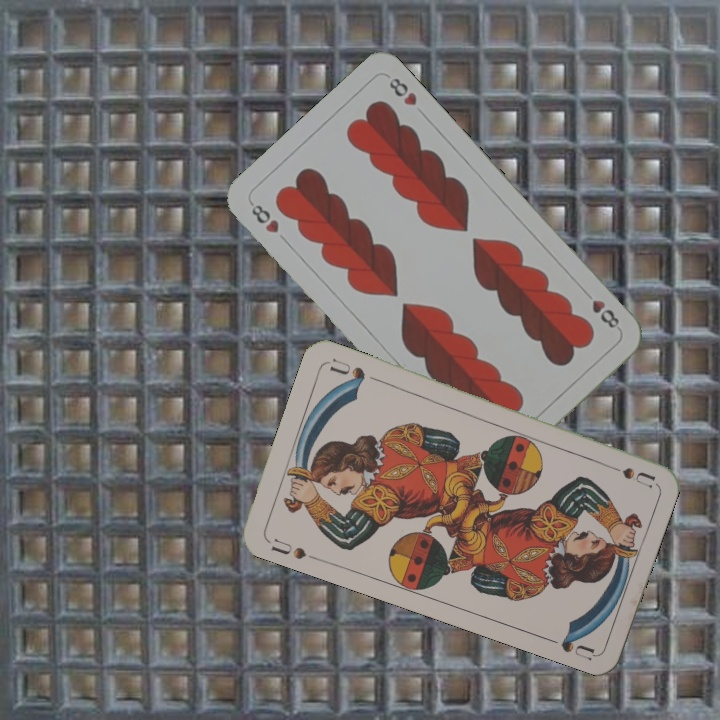H8: (245, 197, 282, 236), (588, 295, 622, 331)
SU: (598, 458, 657, 489), (267, 534, 321, 564)
